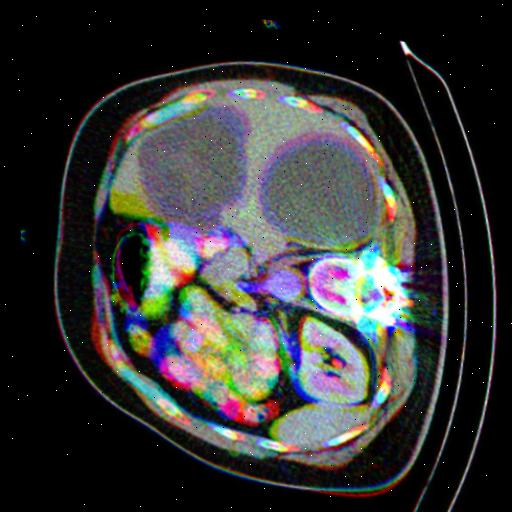Cyst: (257, 130, 375, 244), (135, 104, 242, 225)
